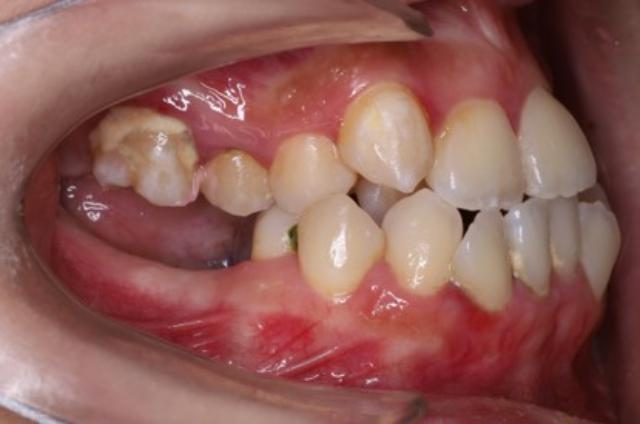canine class II 1/4: (301, 80, 464, 326)
